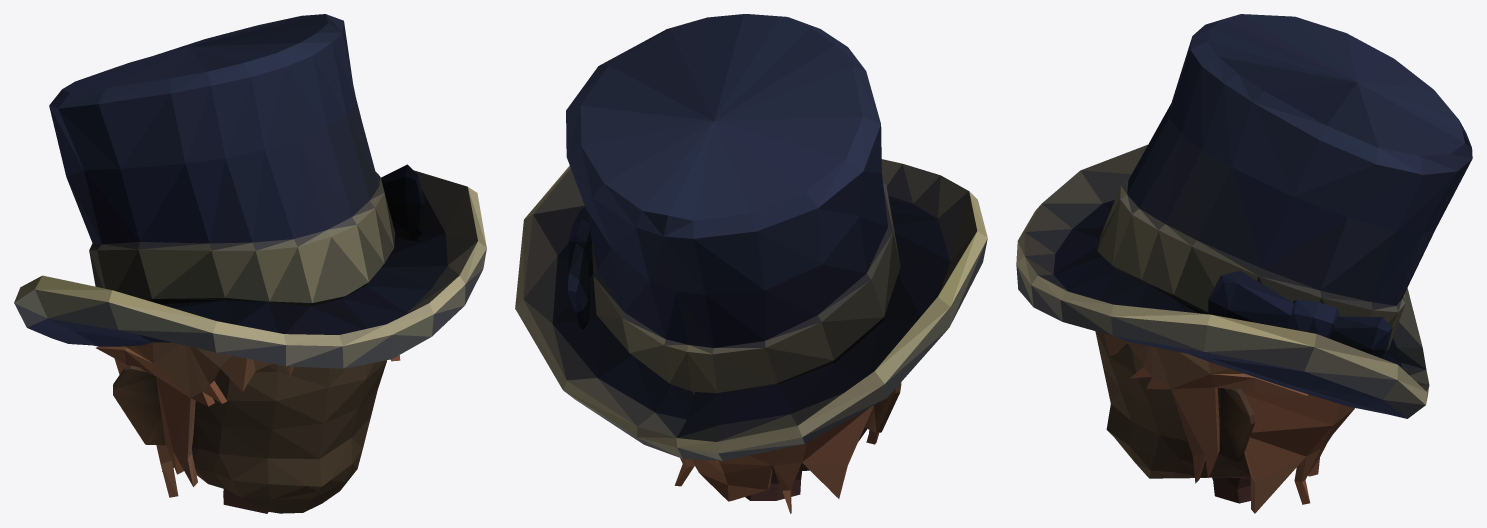
File: helm_darkskin_spike_blonde_tophat.fbx
3 renders of one model, left to right at view 1: azimuth 30°, elevation 25°; view 2: azimuth 150°, elevation 25°; view 3: azimuth 270°, elevation 25°, orthographic.
Parts seen in each view (by area): view 1: helm_darkskin_spike_blonde_tophat; view 2: helm_darkskin_spike_blonde_tophat; view 3: helm_darkskin_spike_blonde_tophat.
Part boxes in pixels (bbox=[...]): helm_darkskin_spike_blonde_tophat: bbox=[14, 14, 486, 513]; helm_darkskin_spike_blonde_tophat: bbox=[515, 14, 987, 513]; helm_darkskin_spike_blonde_tophat: bbox=[1016, 14, 1472, 513].
Size of the model in its own units: 1.67 by 1.82 by 1.64.
